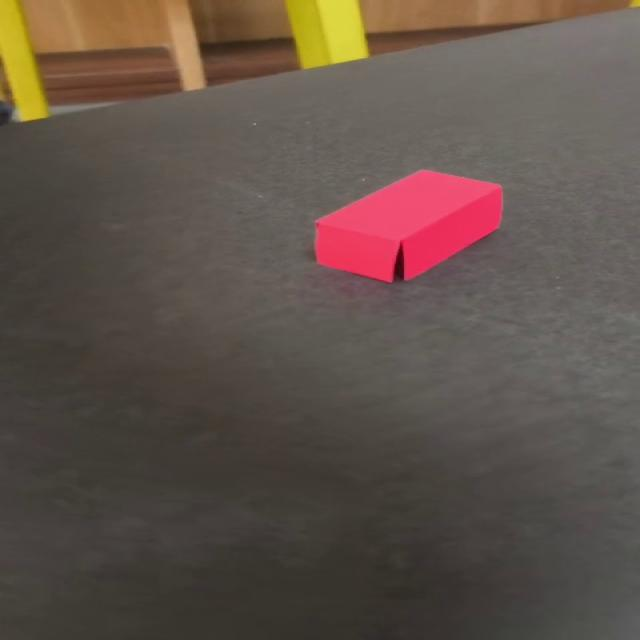red block: (312, 168, 504, 283)
